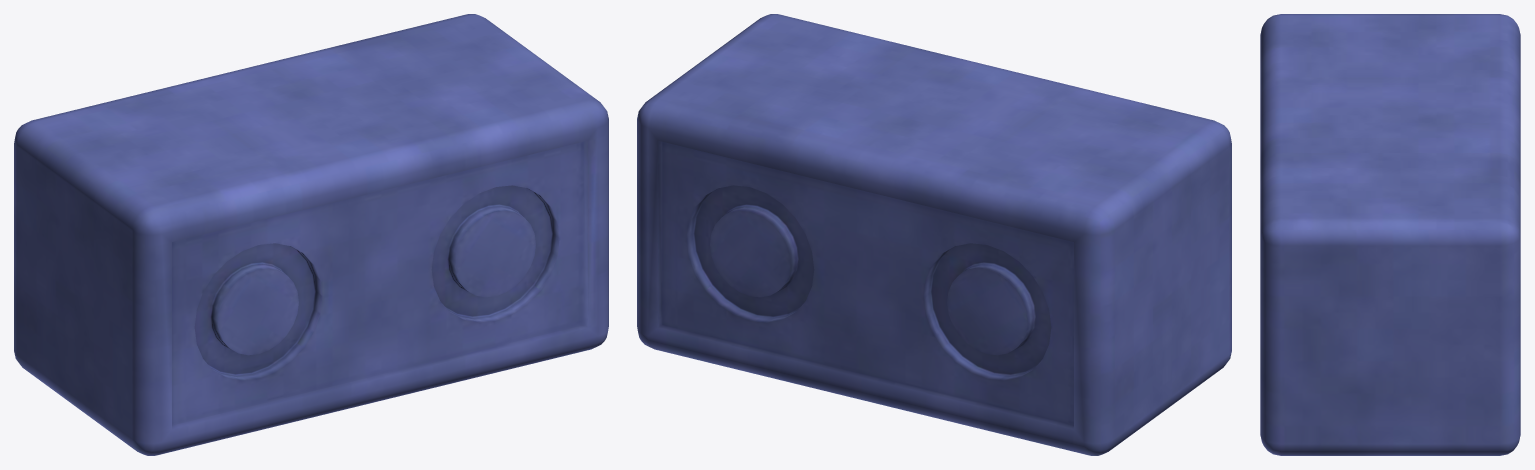
Rendered from tas2.glb.
3 renders of one model, left to right at view 1: azimuth 30°, elevation 25°; view 2: azimuth 150°, elevation 25°; view 3: azimuth 270°, elevation 25°, orthographic. The views are drawn at different scales.
Visible parts, largest first — view 1: blok; view 2: blok; view 3: blok.
Boxes of the visible parts, x1,y1,x2,y2 form: blok: (14, 14, 608, 455); blok: (637, 14, 1231, 455); blok: (1260, 14, 1520, 455).
Bounding box in the file's own units: 2 × 1 × 1.
1 material, 1 textured.
